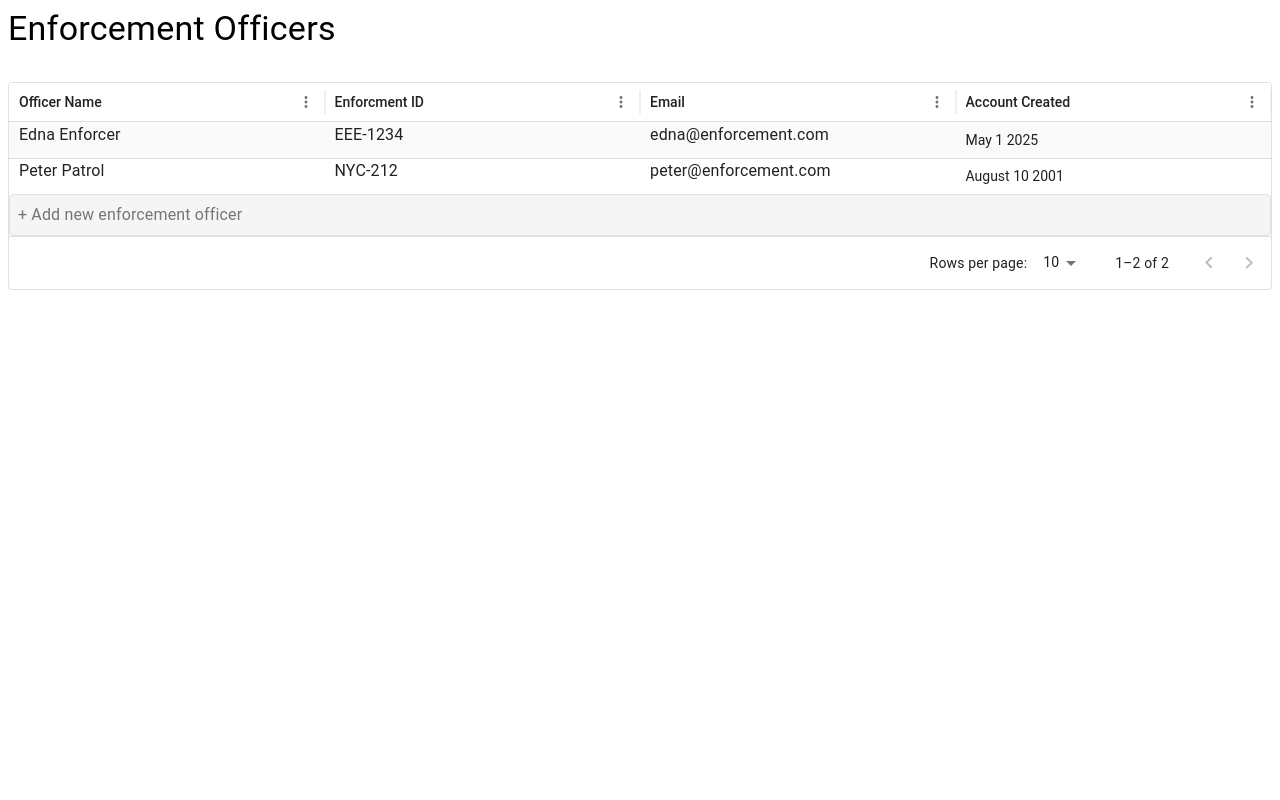
Test: Opens the creation modal
Expected: the text "Edna Enforcer" is shown, [19,125,121,144]
Step 1. Click the text "+ Add new enforcement officer" → (130, 214), box [18,205,242,224]
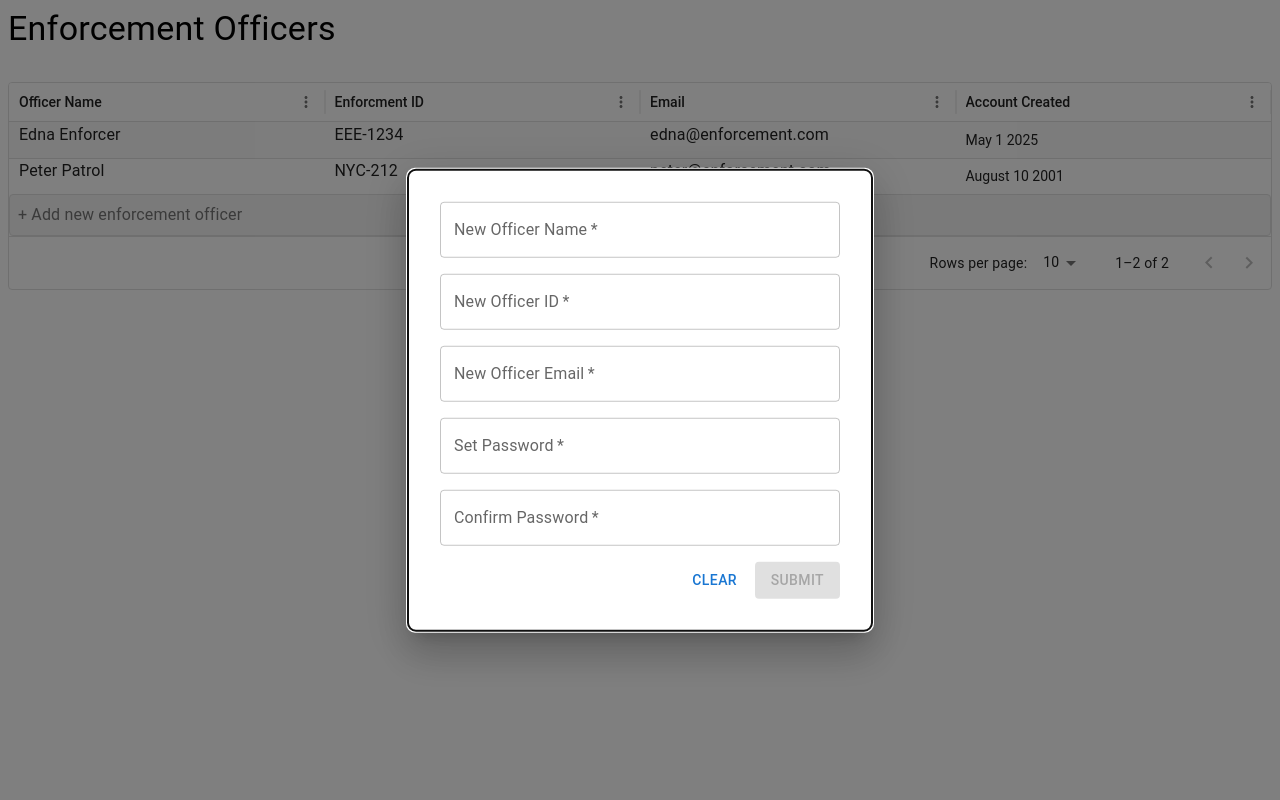
Result: the button "Submit" is shown at [755,562,840,598]
